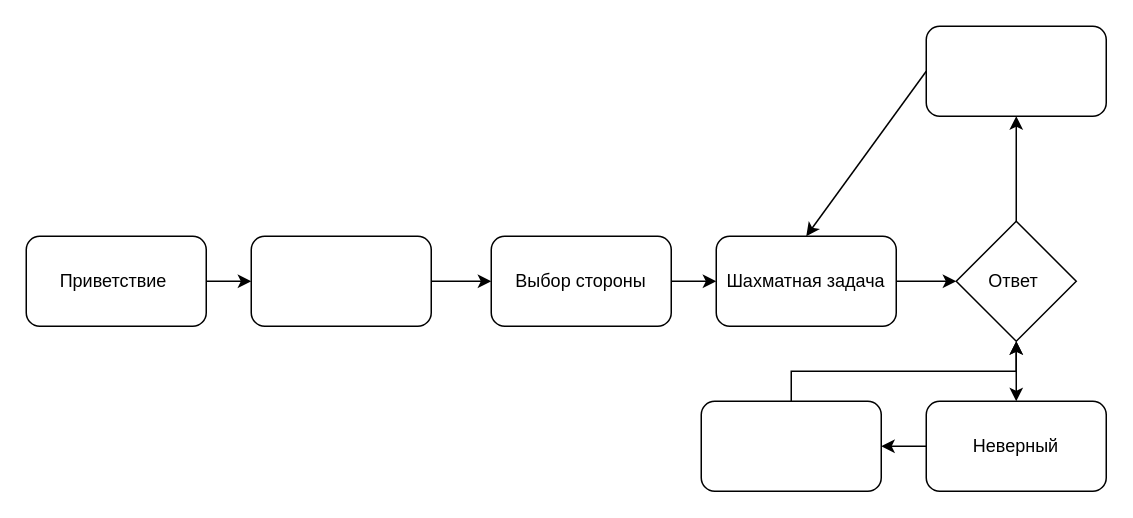
This 1133x518 diagram has some shape labels left out. Here are the shapes that lost their labels. From the top down, the box of each, then its label:
(925, 25, 1106, 116): Верный
(250, 235, 431, 326): Выбор уровня сложности
(700, 400, 881, 491): Подсказка
